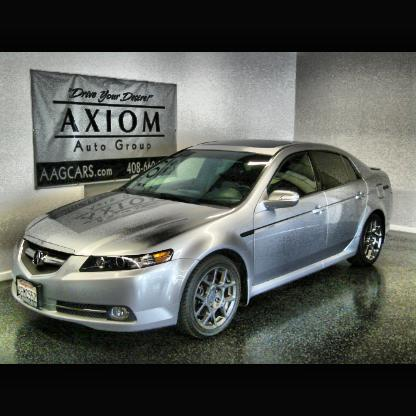Acura TL Type-S 2008: (10, 141, 394, 342)
